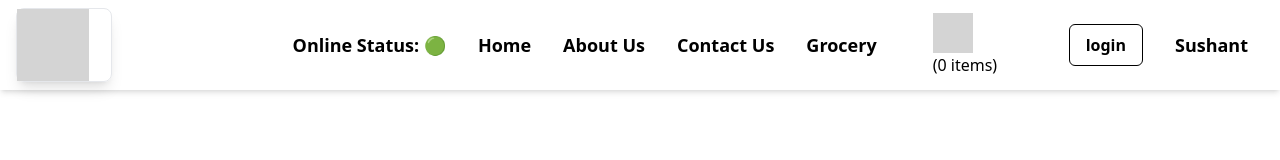
should render the login button
Step 1. Click the button "login" → (1106, 45), box [1069,24,1143,66]
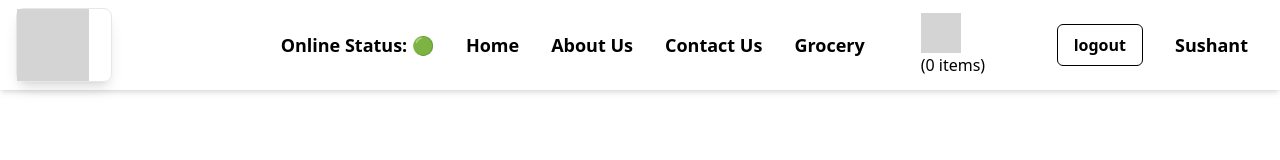
Result: the button "logout" is shown at [1057,24,1143,66]
